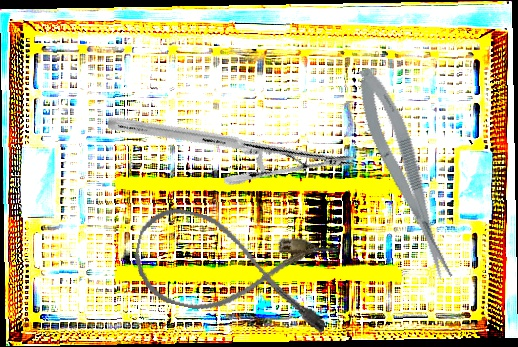Cannula: (126, 201, 343, 339)
Micro Scissor: (348, 62, 460, 287)
Needle Holder: (105, 43, 357, 242)
